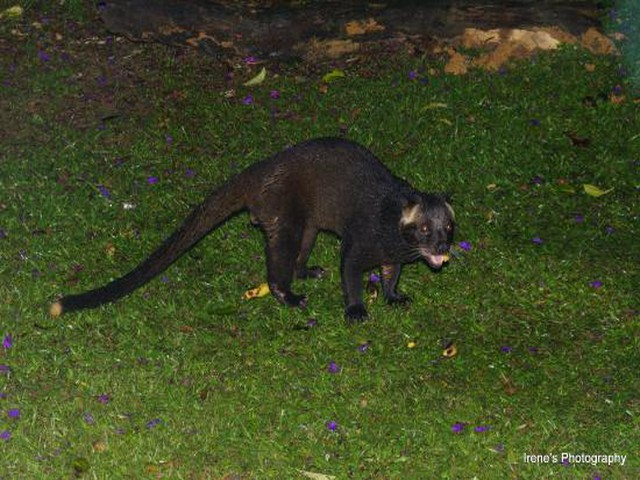civet: (47, 134, 454, 327)
